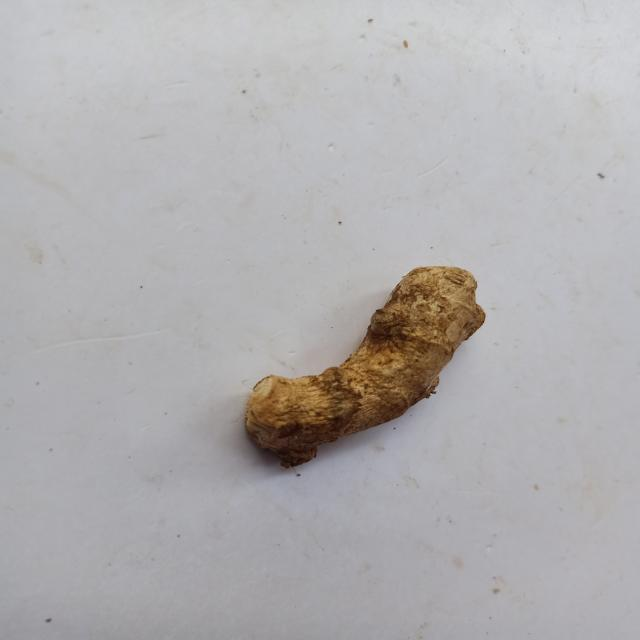Ginger: (245, 267, 486, 468)
